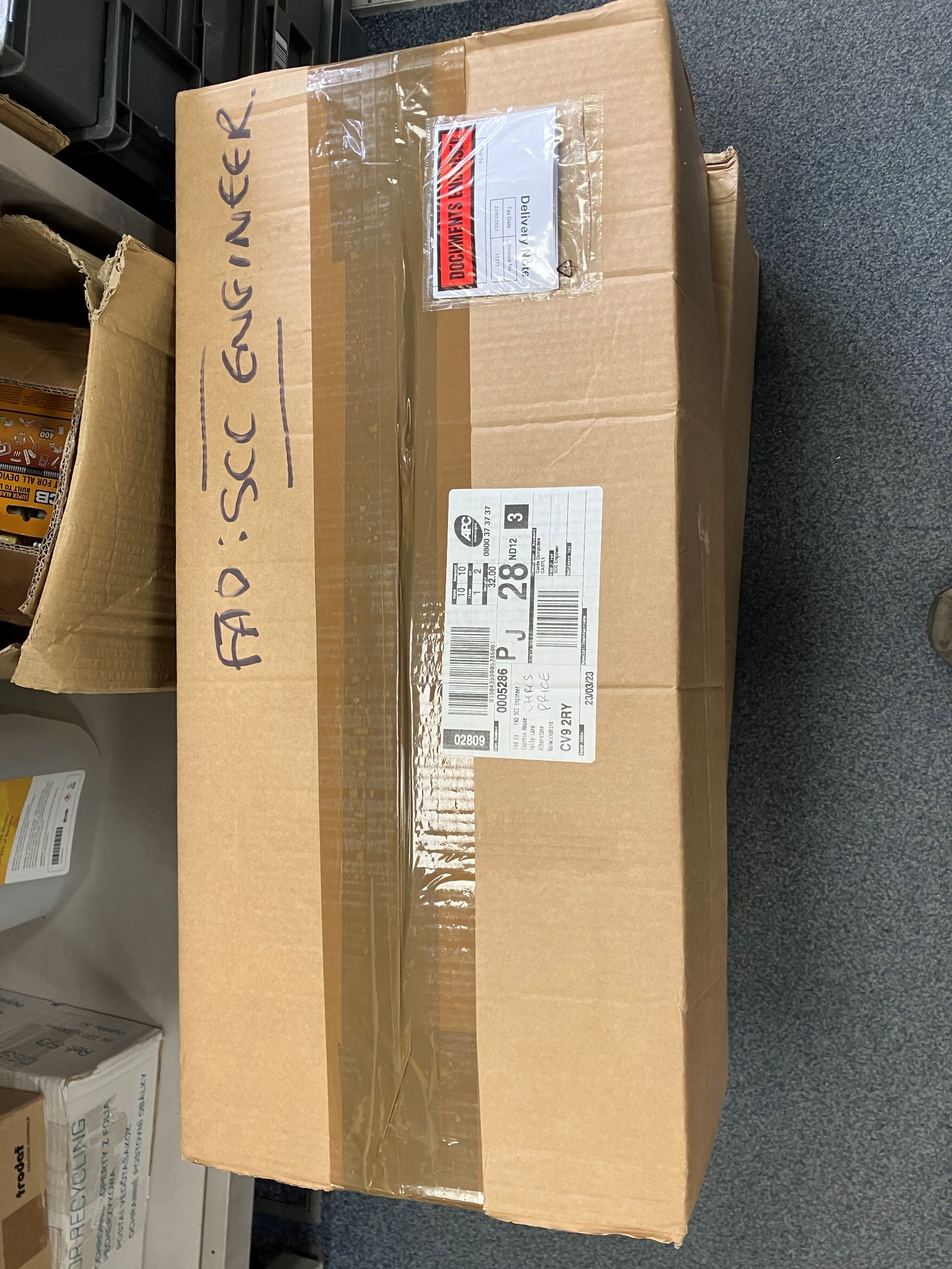label: (437, 475, 606, 761)
package: (162, 80, 743, 1252)
